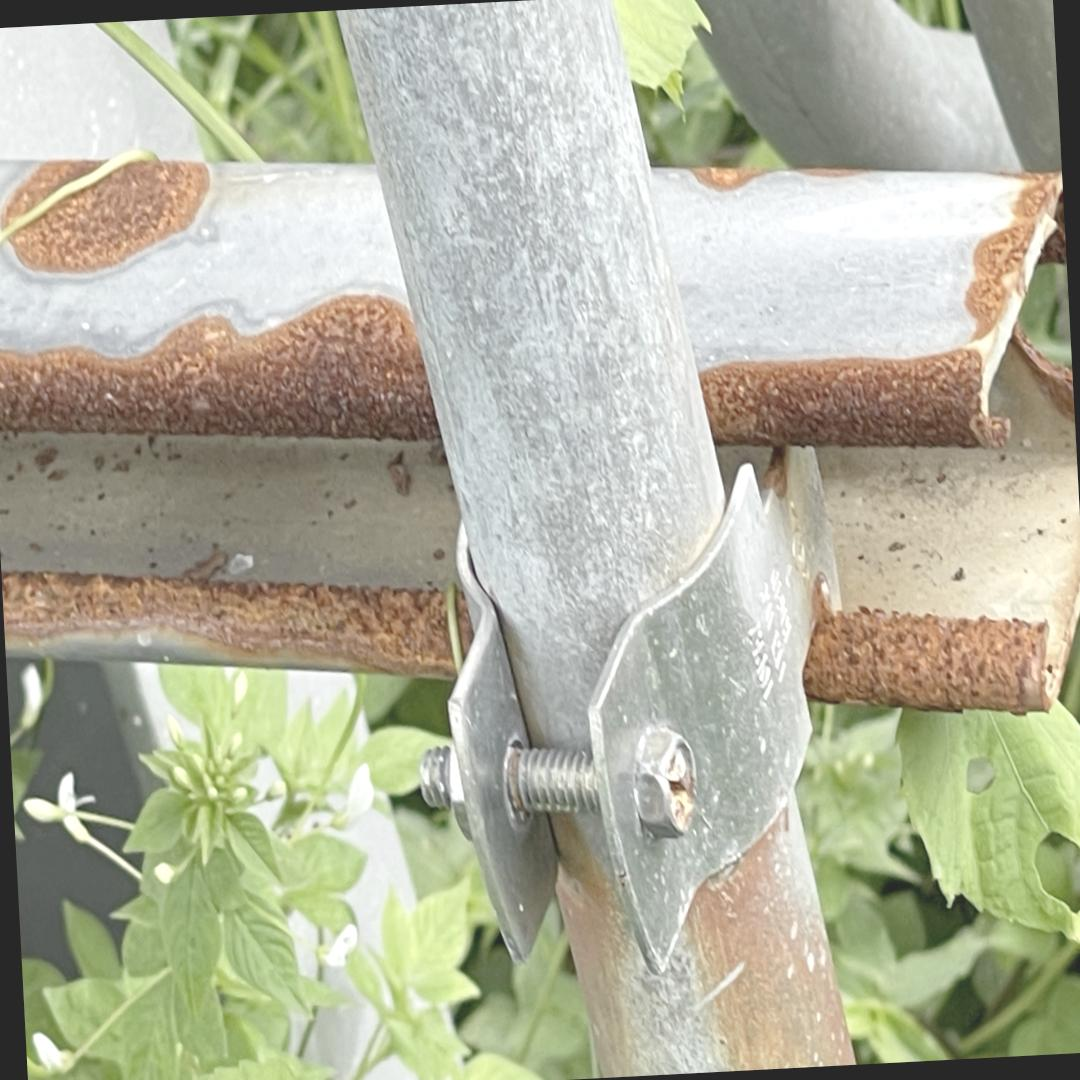Metal: (0, 0, 843, 1076), (651, 160, 1023, 380)
Metal corroido: (696, 169, 1066, 449), (0, 295, 441, 442), (1, 549, 457, 681), (684, 799, 859, 1071), (803, 583, 1051, 713), (543, 807, 636, 1078), (7, 161, 209, 273), (0, 158, 107, 229), (1011, 323, 1074, 418), (685, 166, 876, 192)
